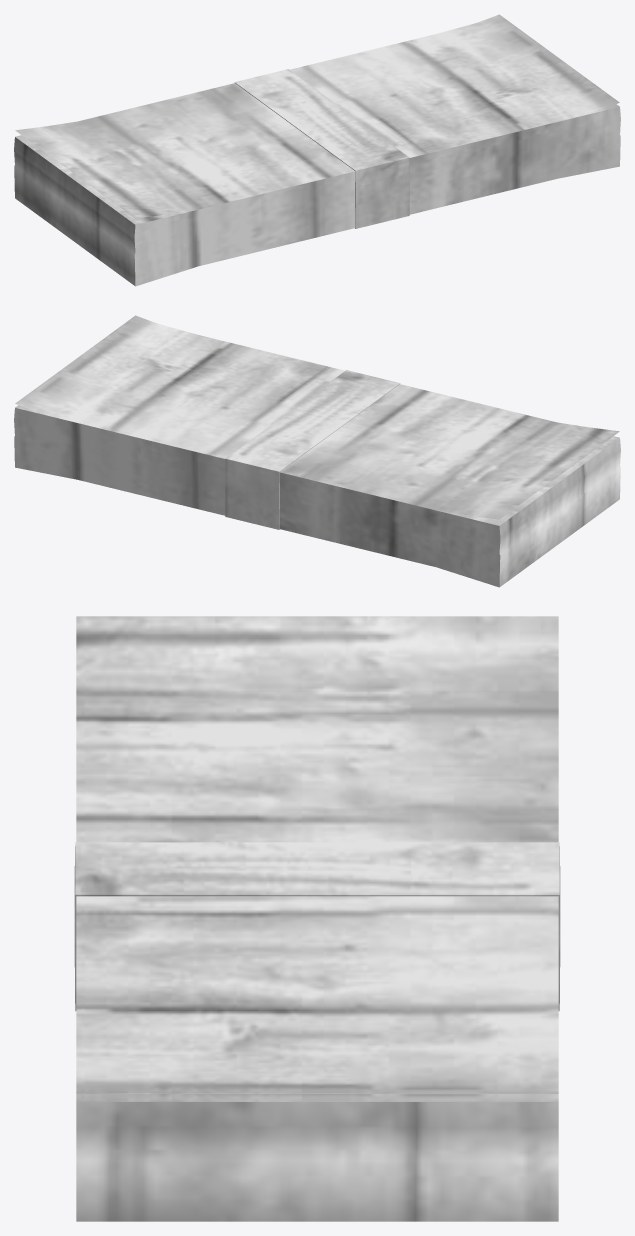
3 views of the same model, one above another, from view 1: azimuth 30°, elevation 25°; view 2: azimuth 150°, elevation 25°; view 3: azimuth 270°, elevation 25° (orthographic). The views are drawn at different scales.
Parts seen in each view (by area): view 1: Wad_Wad_0; view 2: Wad_Wad_0; view 3: Wad_Wad_0.
Boxes of the visible parts, x1,y1,x2,y2 form: Wad_Wad_0: (14, 14, 620, 286); Wad_Wad_0: (14, 315, 620, 587); Wad_Wad_0: (74, 616, 560, 1221).
Size of the model in its own units: 162 by 21.57 by 69.81.
